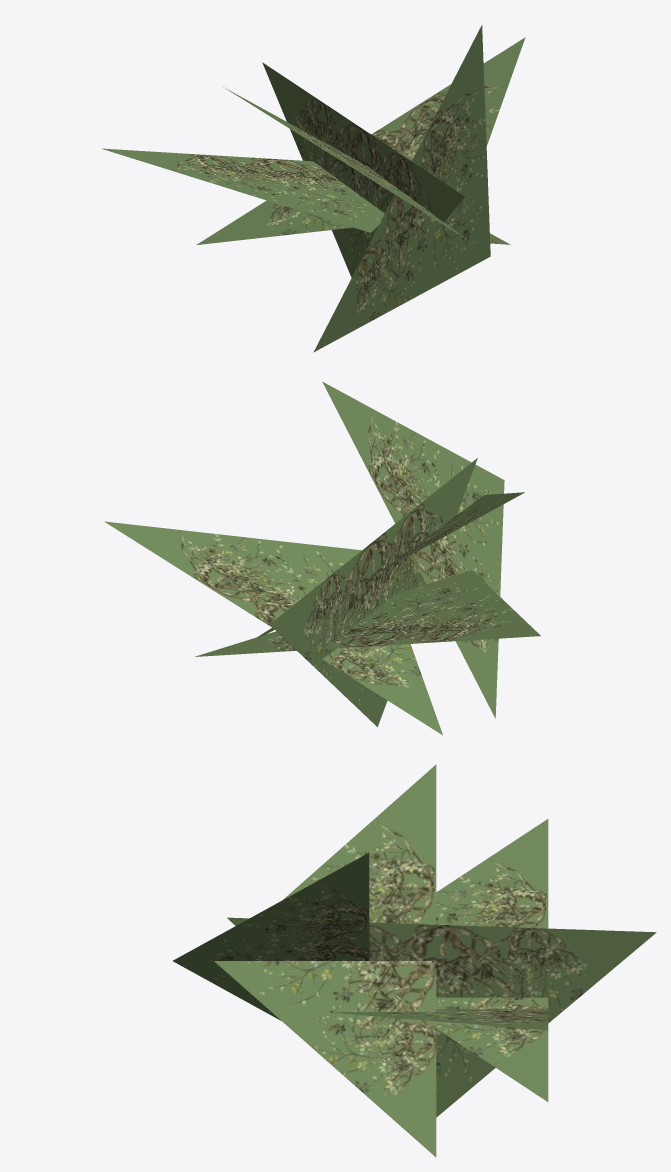
File: caen_hedgewall_endcap.glb
The picture shows the model from 3 angles, top to bottom: view 1: azimuth 30°, elevation 25°; view 2: azimuth 150°, elevation 25°; view 3: azimuth 270°, elevation 25°; orthographic projection. The views are drawn at different scales.
Bounding box in the file's own units: 188 × 93.19 × 175.
1 material, 1 textured.
